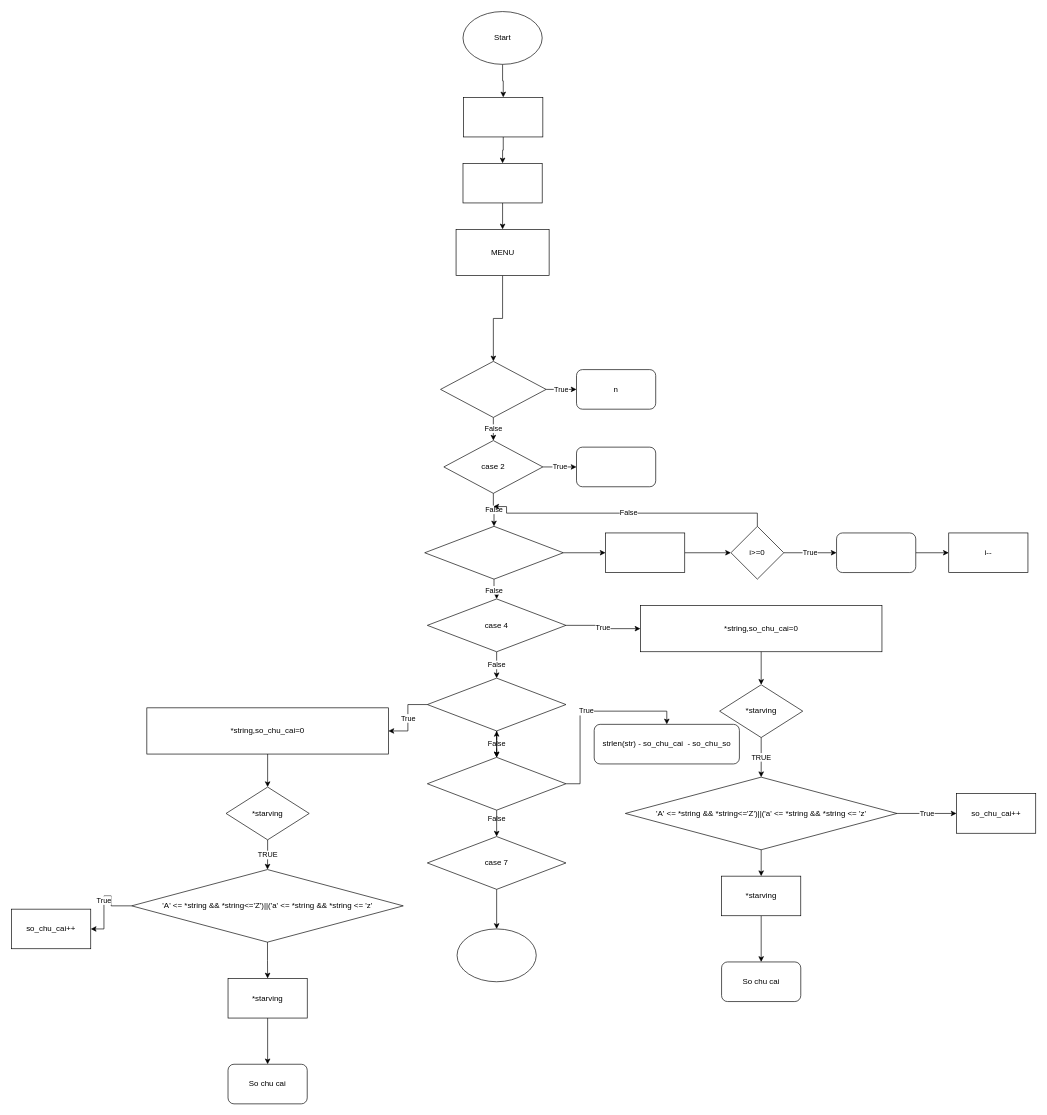
Image size: 1047x1115. Some labels were removed from this diagram. The box of each missing label's shape, as (x1, y1, x2, y2) in pixels:
case 1: (440, 361, 546, 417)
case 3: (424, 526, 563, 579)
case 5: (427, 677, 566, 731)
case 6: (427, 757, 566, 810)
choice, n: (463, 97, 543, 137)
End: (456, 928, 536, 982)
i=strlen(str): (605, 532, 685, 573)
str[100]: (462, 163, 542, 203)
str[i]: (836, 532, 916, 573)
strlen(str) str: (576, 446, 656, 487)
